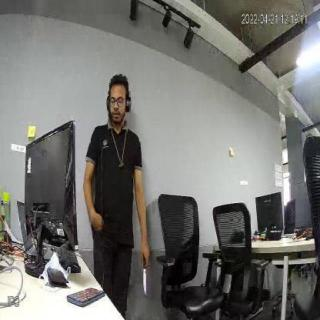knife: (142, 251, 152, 299)
